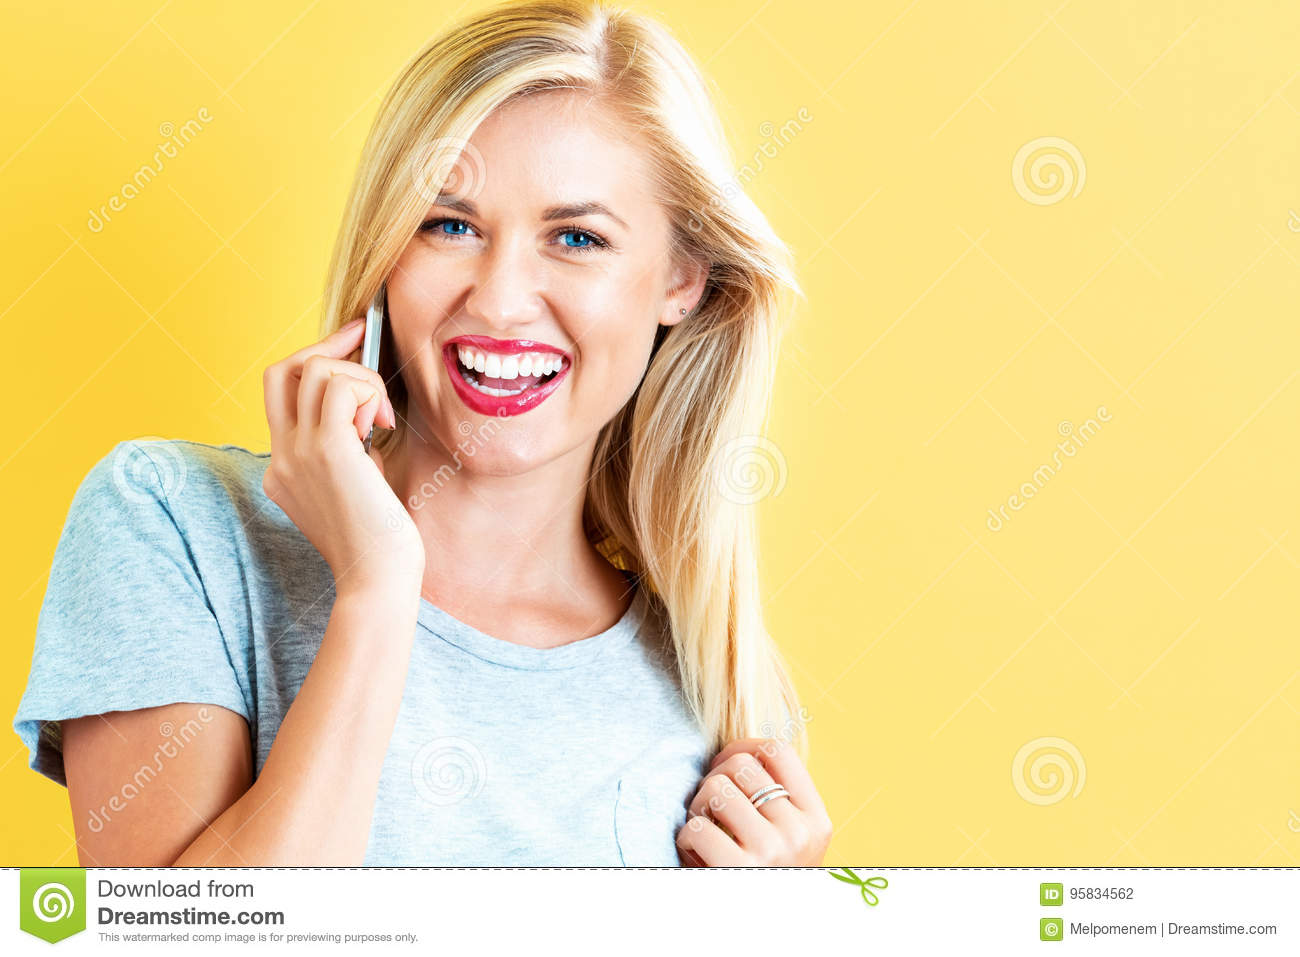phone: (346, 252, 401, 475)
talk: (263, 158, 640, 625)
